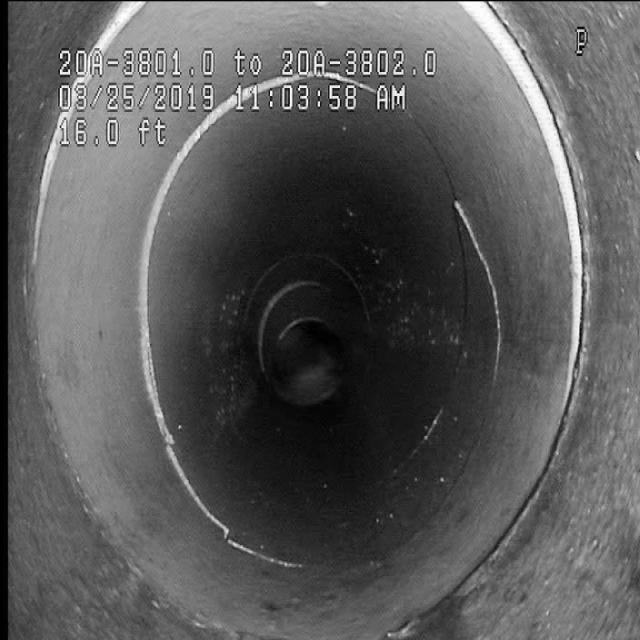Crack: (455, 192, 513, 396)
